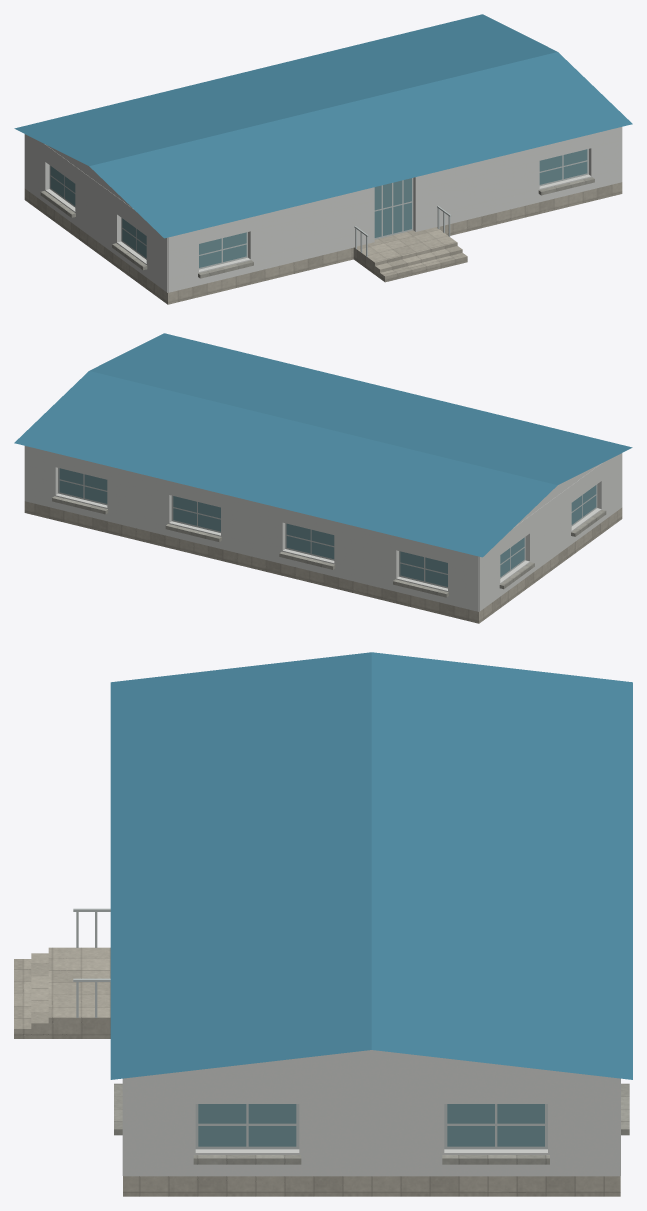
3 renders of one model, top to bottom at view 1: azimuth 30°, elevation 25°; view 2: azimuth 150°, elevation 25°; view 3: azimuth 270°, elevation 25°, orthographic. The views are drawn at different scales.
Parts seen in each view (by area): view 1: annex__roofBlue, annex__wall, annex__stone, annex__glass, annex__stair-front, annex__frame, annex__threshold-front, annex__sill; view 2: annex__roofBlue, annex__wall, annex__stone, annex__glass, annex__sill, annex__frame; view 3: annex__roofBlue, annex__wall, annex__stone, annex__glass, annex__stair-front, annex__threshold-front, annex__sill, annex__frame.
Part boxes in pixels (x1=…): annex__roofBlue: x1=14, y1=14, x2=632, y2=238; annex__wall: x1=24, y1=127, x2=622, y2=292; annex__stone: x1=24, y1=182, x2=622, y2=304; annex__glass: x1=50, y1=149, x2=587, y2=267; annex__stair-front: x1=370, y1=239, x2=467, y2=282; annex__frame: x1=49, y1=149, x2=588, y2=269; annex__threshold-front: x1=353, y1=227, x2=452, y2=270; annex__sill: x1=40, y1=177, x2=594, y2=278; annex__roofBlue: x1=14, y1=333, x2=632, y2=557; annex__wall: x1=24, y1=446, x2=622, y2=611; annex__stone: x1=24, y1=501, x2=622, y2=623; annex__glass: x1=59, y1=468, x2=596, y2=586; annex__sill: x1=52, y1=496, x2=606, y2=597; annex__frame: x1=58, y1=468, x2=597, y2=588; annex__roofBlue: x1=110, y1=652, x2=632, y2=1079; annex__wall: x1=122, y1=1050, x2=620, y2=1176; annex__stone: x1=123, y1=1176, x2=620, y2=1196; annex__glass: x1=198, y1=1104, x2=544, y2=1146; annex__stair-front: x1=14, y1=947, x2=66, y2=1038; annex__threshold-front: x1=66, y1=947, x2=110, y2=1038; annex__sill: x1=114, y1=1083, x2=629, y2=1164; annex__frame: x1=73, y1=908, x2=547, y2=1149.
Bounding box in the file's own units: 22.7 × 4.07 × 14.93.
6 materials, 3 textured.
